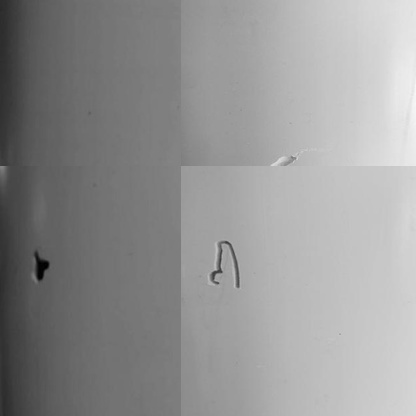fengxi: (207, 239, 251, 293)
kongdong: (26, 249, 54, 280)
sunshang: (267, 149, 297, 169)
